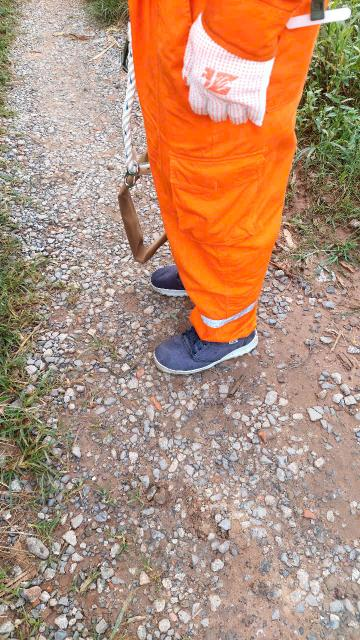gloves: (173, 12, 281, 141)
shoes: (138, 321, 276, 378), (147, 253, 213, 310)
